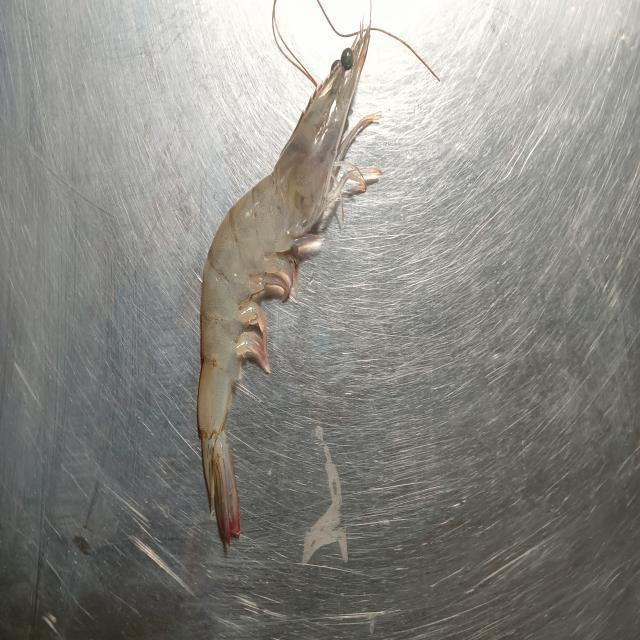shrimp: (198, 29, 379, 545)
